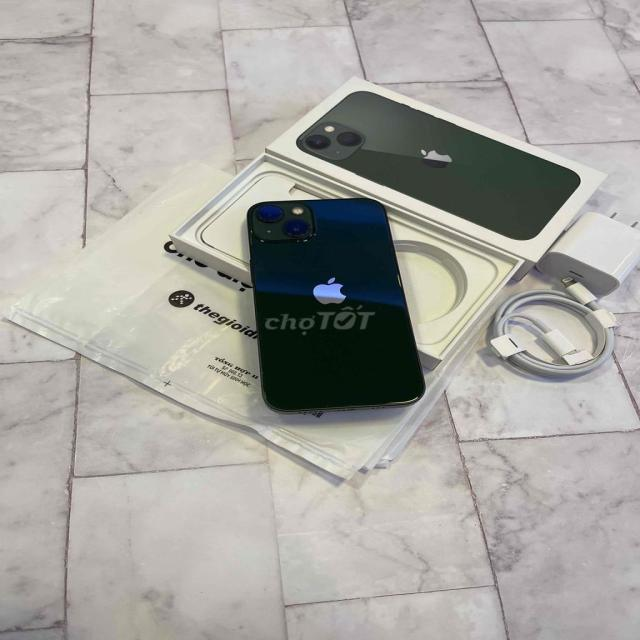gen_12_13: (240, 194, 431, 416)
